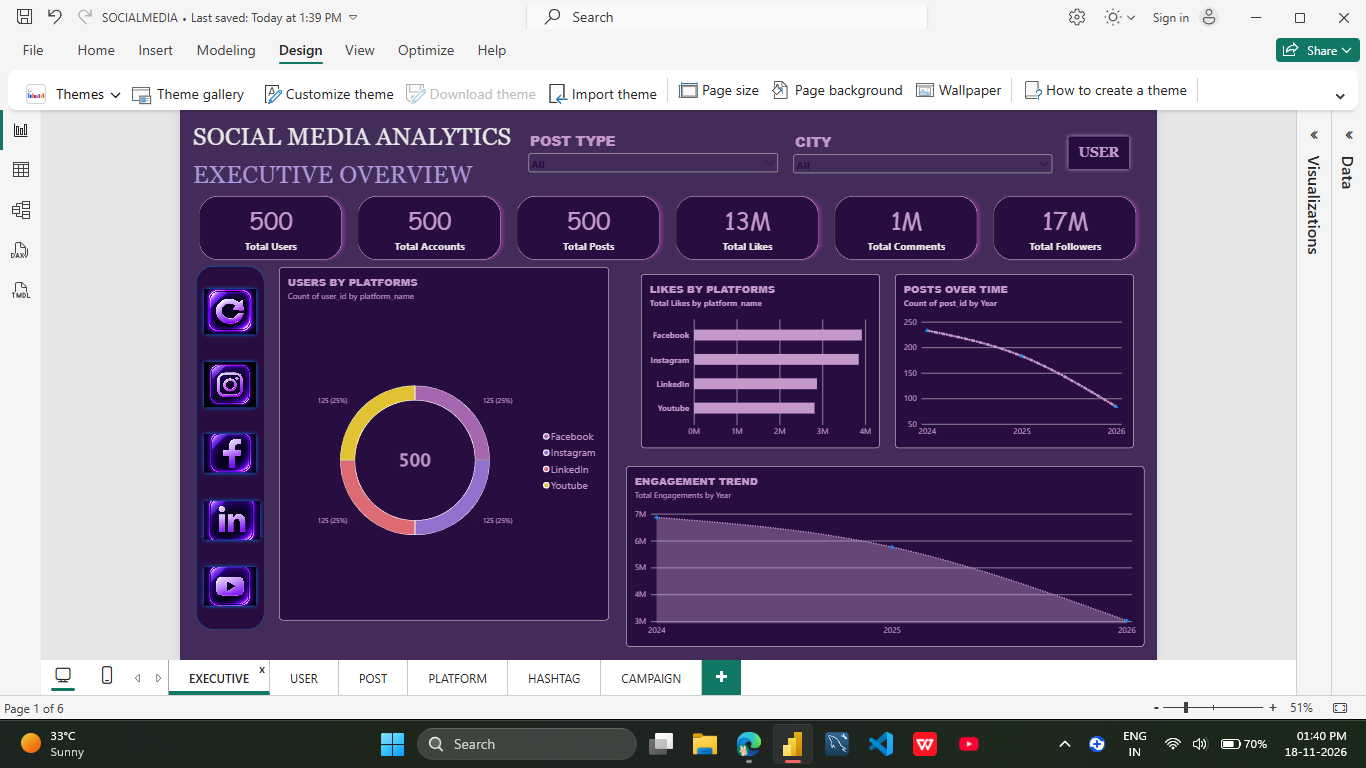

Layout of this report page (visuals, bound fields, positions):
{"tool":"powerbi","page":{"name":"EXECUTIVE","canvas":[1920,1080],"ordinal":0},"visuals":[{"type":"shape","box":[30.7,307,134.4,714.1],"z":0},{"type":"cardVisual","fields":{"Data":["social_media users.Total Users","social_media useraccount.Total Accounts","social_media posts.Total Posts","social_media likes.Total Likes","social_media comments.Total Comments","social_media follows.Total Followers"]},"box":[26.4,156.5,1866.9,149.9],"z":1000},{"type":"lineChart","title":"POSTS OVER TIME","fields":{"Category":["social_media posts.posted_at.Variation.Date Hierarchy.Year","social_media posts.posted_at.Variation.Date Hierarchy.Quarter","social_media posts.posted_at.Variation.Date Hierarchy.Month","social_media posts.posted_at.Variation.Date Hierarchy.Day"],"Y":["CountNonNull(social_media posts.post_id)"]},"box":[1404,321.8,469.5,341.6],"z":2000},{"type":"donutChart","title":"USERS BY PLATFORMS","fields":{"Category":["social_media platforms.platform_name"],"Y":["CountNonNull(social_media useraccount.user_id)"]},"box":[194,308.6,648,694.3],"z":3000},{"type":"clusteredBarChart","title":"LIKES BY PLATFORMS","fields":{"Category":["social_media platforms.platform_name"],"Y":["social_media likes.Total Likes"]},"box":[905.9,321.8,469.5,341.6],"z":4000},{"type":"areaChart","title":"ENGAGEMENT TREND","fields":{"Category":["social_media posts.posted_at.Variation.Date Hierarchy.Year","social_media posts.posted_at.Variation.Date Hierarchy.Quarter","social_media posts.posted_at.Variation.Date Hierarchy.Month","social_media posts.posted_at.Variation.Date Hierarchy.Day"],"Y":["social_media adperformance.Total Engagements"]},"box":[875,698.7,1018.3,354.9],"z":5000},{"type":"actionButton","box":[38.5,486.4,117.9,105.1],"z":6000},{"type":"actionButton","box":[38.5,629.3,117.9,92.3],"z":7000},{"type":"actionButton","box":[38.5,759.4,125.6,92.3],"z":8000},{"type":"actionButton","box":[38.5,889.5,117.9,92.3],"z":9000},{"type":"actionButton","box":[38.5,343.5,117.9,105.1],"z":10000},{"type":"slicer","fields":{"Values":["social_media users.city"]},"box":[1199,44.1,517.8,115.4],"z":11000},{"type":"slicer","fields":{"Values":["social_media posts.post_type"]},"box":[678.9,41.9,499.9,117.9],"z":12000},{"type":"textbox","box":[25.6,5.1,817.7,151.2],"z":13000},{"type":"actionButton","box":[1736.8,44.1,136.7,81.6],"z":14000}]}

Visuals, with their boxes on the page's 1920x1080 design canvas (x1, y1, x2, y2). These are canvas units, not pixel positions in the 1366x768 screenshot, which may show the page scaled, cropped or inside an application window:
shape: (31,307,165,1021)
cardVisual - social_media users.Total Users x social_media useraccount.Total Accounts: (26,156,1893,306)
"POSTS OVER TIME" lineChart: (1404,322,1874,663)
"USERS BY PLATFORMS" donutChart: (194,309,842,1003)
"LIKES BY PLATFORMS" clusteredBarChart: (906,322,1375,663)
"ENGAGEMENT TREND" areaChart: (875,699,1893,1054)
actionButton: (38,486,156,592)
actionButton: (38,629,156,722)
actionButton: (38,759,164,852)
actionButton: (38,890,156,982)
actionButton: (38,344,156,449)
slicer - social_media users.city: (1199,44,1717,160)
slicer - social_media posts.post_type: (679,42,1179,160)
textbox: (26,5,843,156)
actionButton: (1737,44,1874,126)
